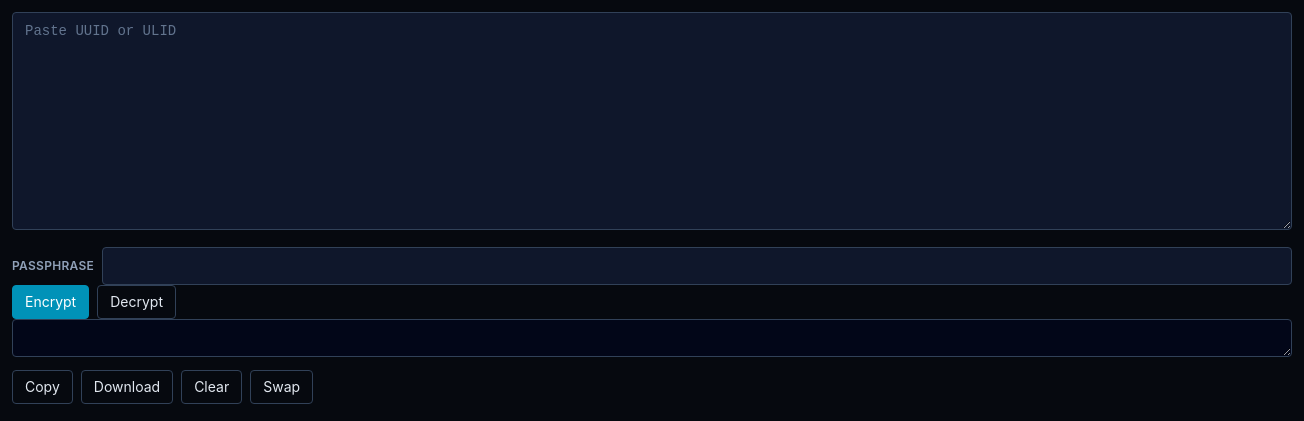
Test: TemplateB encrypted text › clears both text and passphrase from its local fields
This screenshot has width=1304, height=421.
Type "private text" into the text box with placeholder "Paste UUID or ULID". click: (652, 121)
box: [12,12,1292,230]
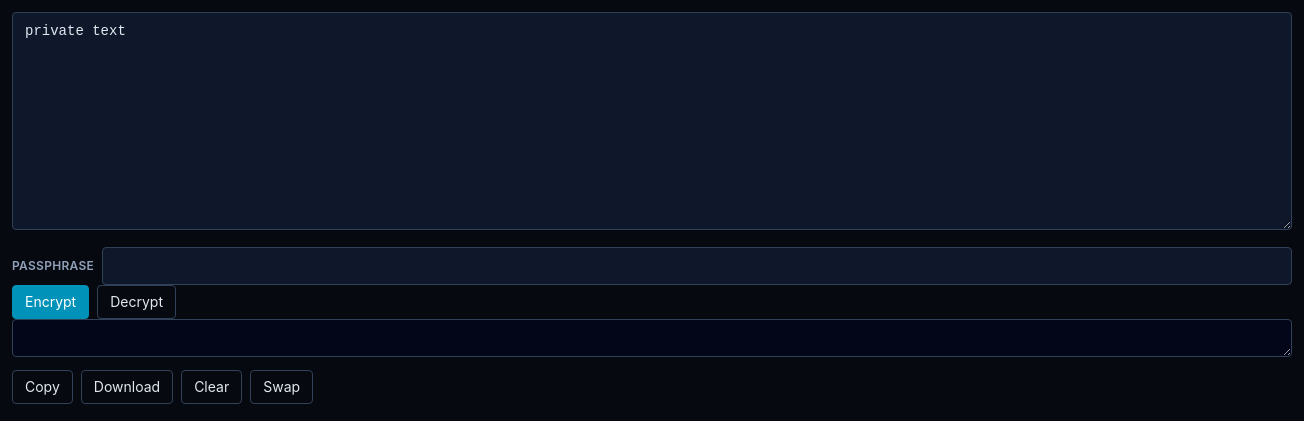
Type "secret" into the password field labelled "Passphrase". click: (697, 266)
box: [102,247,1292,285]
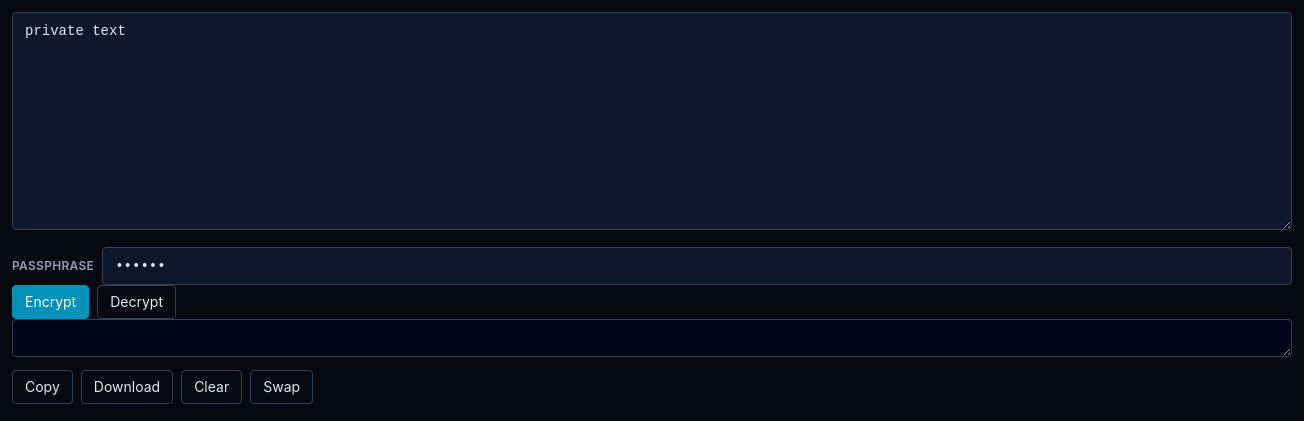
Click the button "Clear". click: (212, 387)
box: [181,370,242,404]
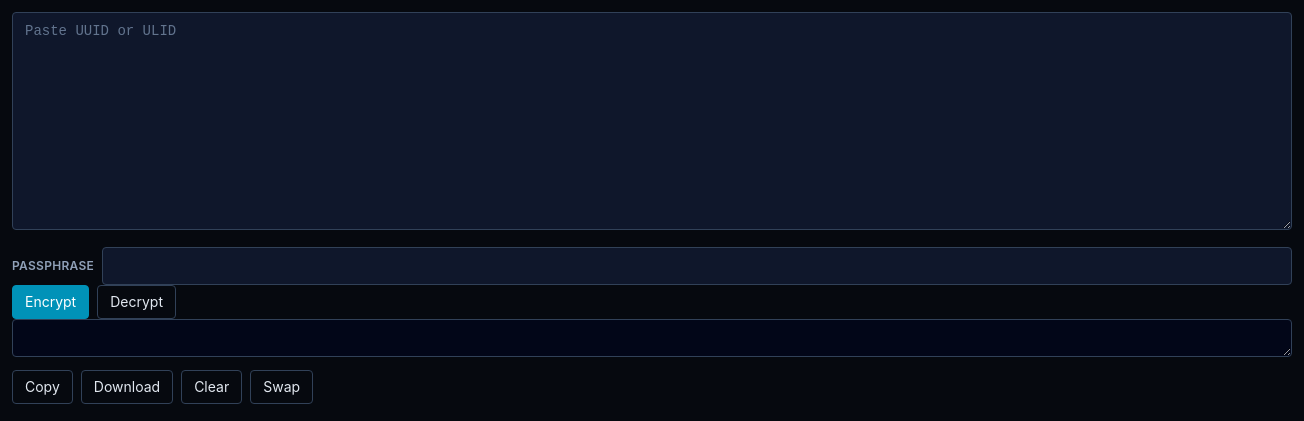
Now the text box with placeholder "Paste UUID or ULID" is empty, box [12,12,1292,230]
Now the password field labelled "Passphrase" is empty, box [102,247,1292,285]
